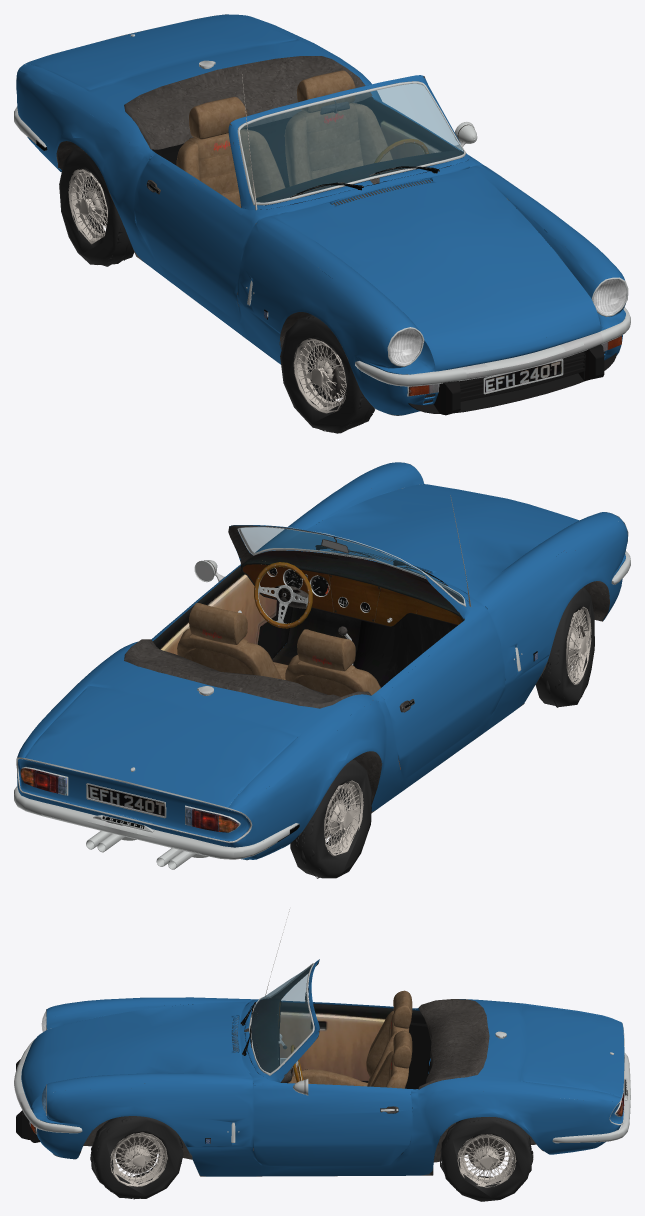
Rendered from triumph-spitfire-mkiii-9c5c1a.glb.
The picture shows the model from 3 angles, top to bottom: view 1: azimuth 30°, elevation 25°; view 2: azimuth 150°, elevation 25°; view 3: azimuth 270°, elevation 25°; orthographic projection. The views are drawn at different scales.
Parts seen in each view (by area): view 1: body, wheel-front-right, wheel-back-right; view 2: body, wheel-back-right, wheel-front-right; view 3: body, wheel-back-left, wheel-front-left.
Boxes of the visible parts, left/top/right/bottom form: body: left=14, top=14, right=630, bottom=415; wheel-front-right: left=280, top=314, right=375, bottom=433; wheel-back-right: left=59, top=147, right=134, bottom=266; body: left=14, top=462, right=630, bottom=869; wheel-back-right: left=290, top=759, right=372, bottom=878; wheel-front-right: left=535, top=587, right=594, bottom=707; body: left=14, top=909, right=630, bottom=1176; wheel-back-left: left=440, top=1117, right=533, bottom=1201; wheel-front-left: left=90, top=1116, right=183, bottom=1199.
Bounding box in the file's own units: 1.7 × 1.61 × 4.26.
16 materials, 13 textured.
